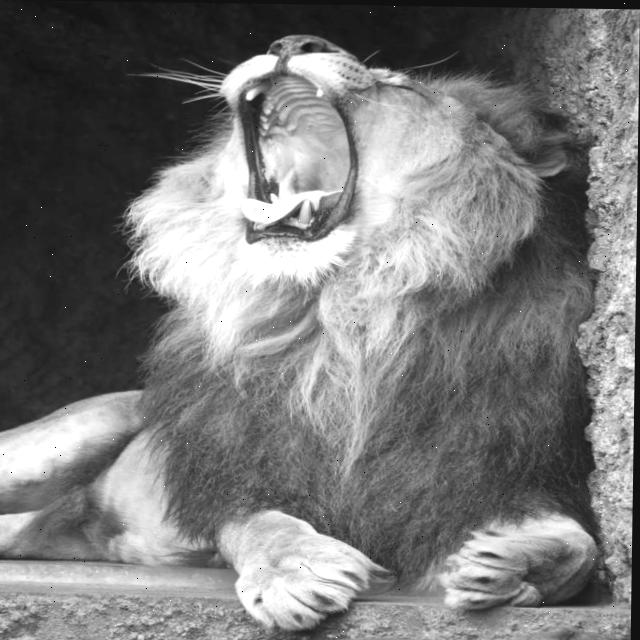Lion: (55, 29, 605, 598)
